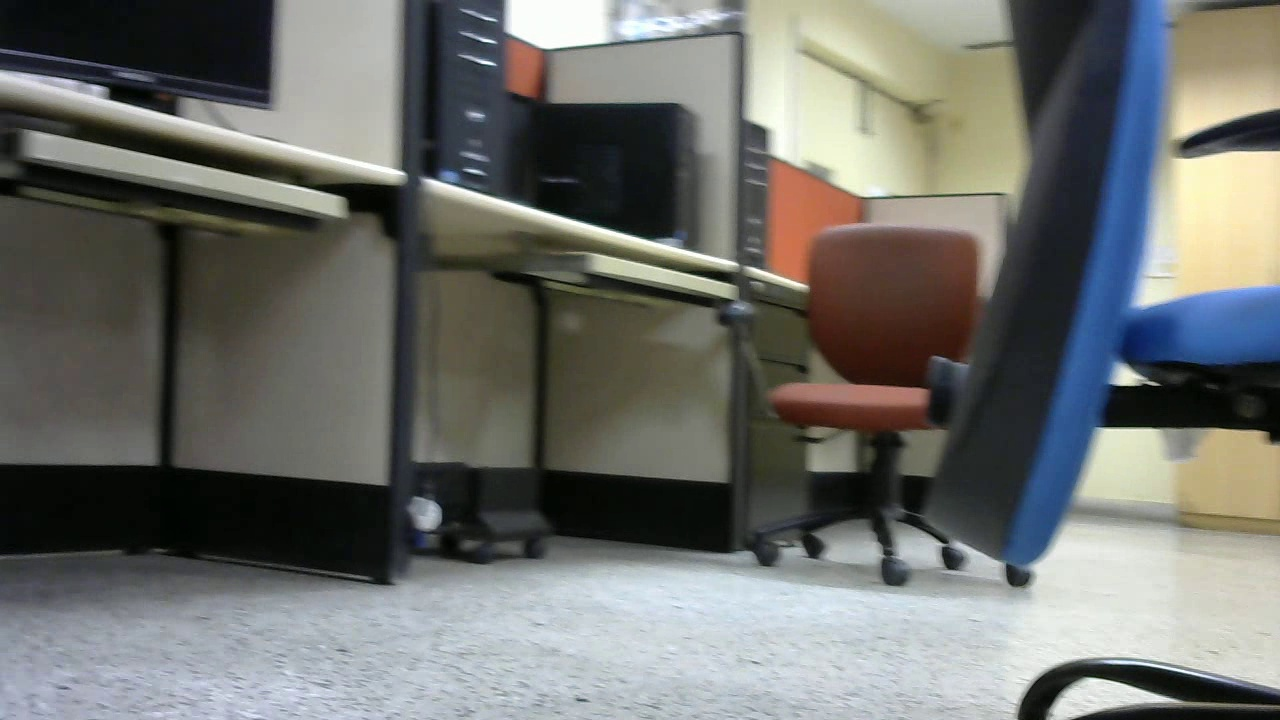chair: (719, 226, 1050, 597)
